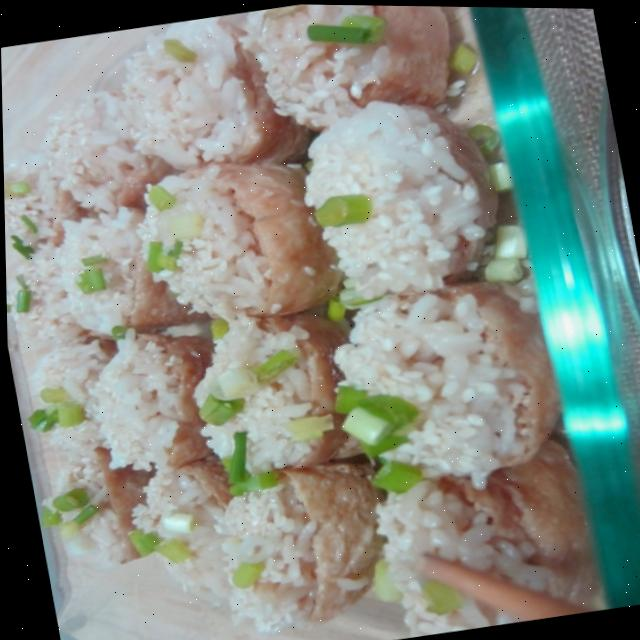寿司卷物: (0, 0, 621, 640)
